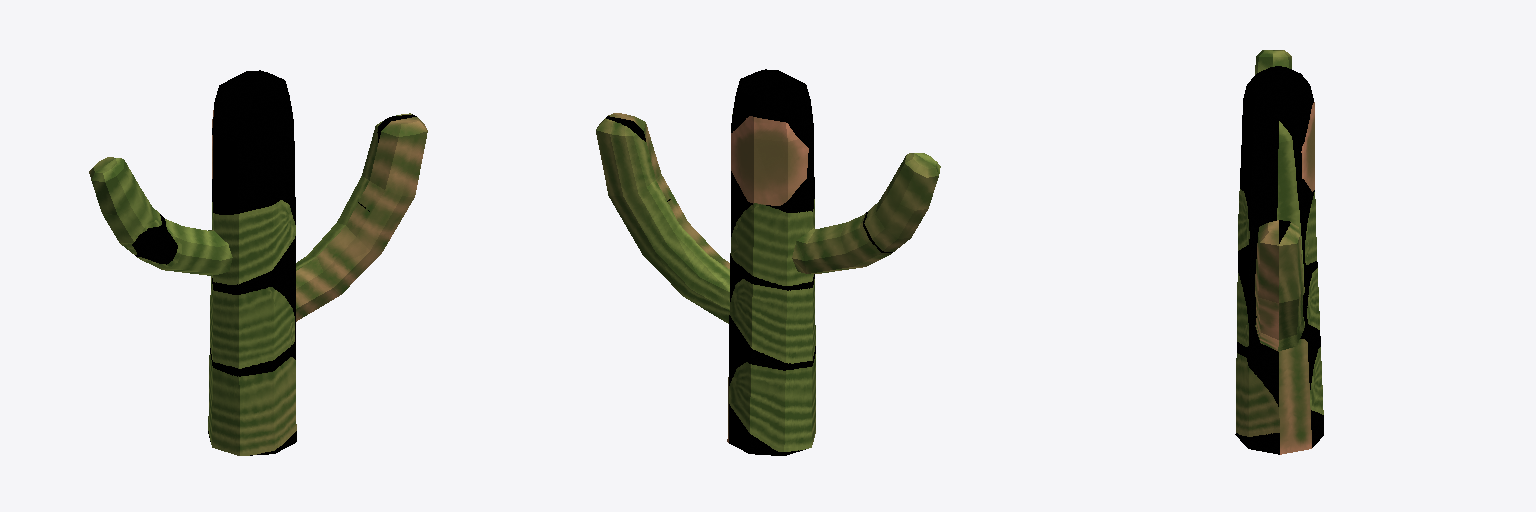
3 views of the same model, side by side, from view 1: azimuth 30°, elevation 25°; view 2: azimuth 150°, elevation 25°; view 3: azimuth 270°, elevation 25° (orthographic).
Parts seen in each view (by area): view 1: cactus_1; view 2: cactus_1; view 3: cactus_1.
Part boxes in pixels (x1,y1,x2,y2): cactus_1: (89,70,427,455); cactus_1: (596,69,940,455); cactus_1: (1235,50,1323,454).
Bounding box in the file's own units: 1.9 × 1.96 × 0.4359.
1 materials, 1 textured.